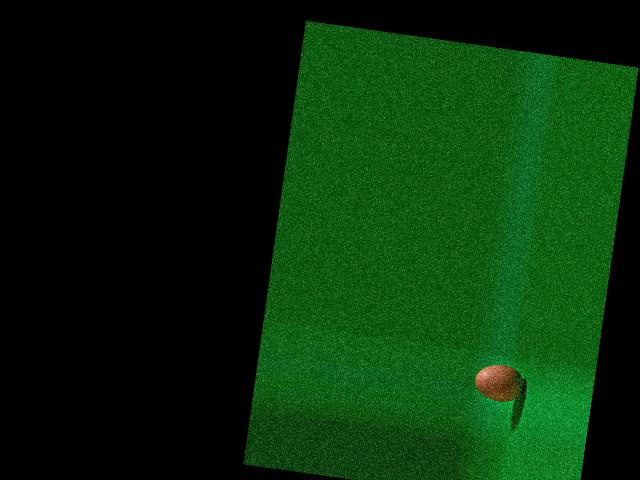egg: (473, 361, 526, 405)
